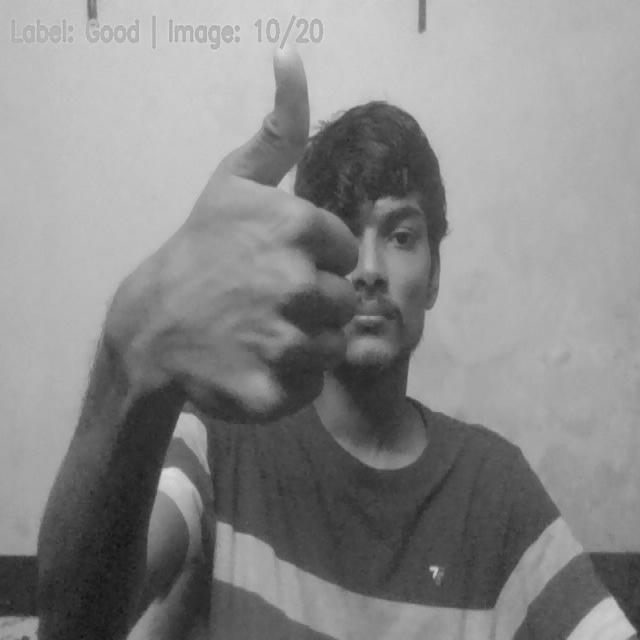Good: (117, 42, 361, 418)
